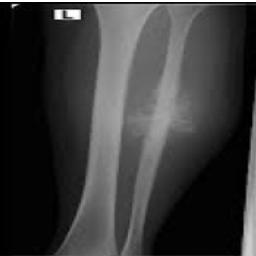cancer: (125, 76, 199, 150)
